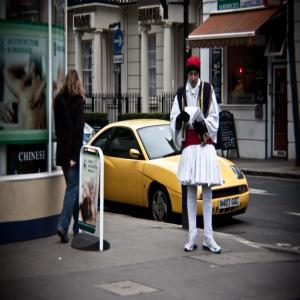Vehicle-registration-plate: (219, 196, 241, 210)
